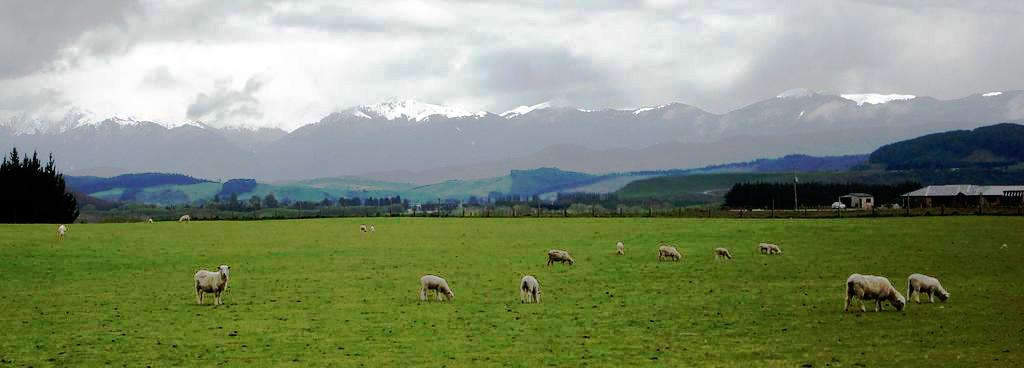Sheep: (841, 270, 906, 316), (195, 263, 236, 309), (414, 272, 455, 306), (908, 276, 952, 306), (520, 273, 544, 308), (548, 247, 575, 270), (656, 245, 683, 265), (716, 246, 735, 262), (768, 245, 787, 258), (760, 240, 774, 257)
